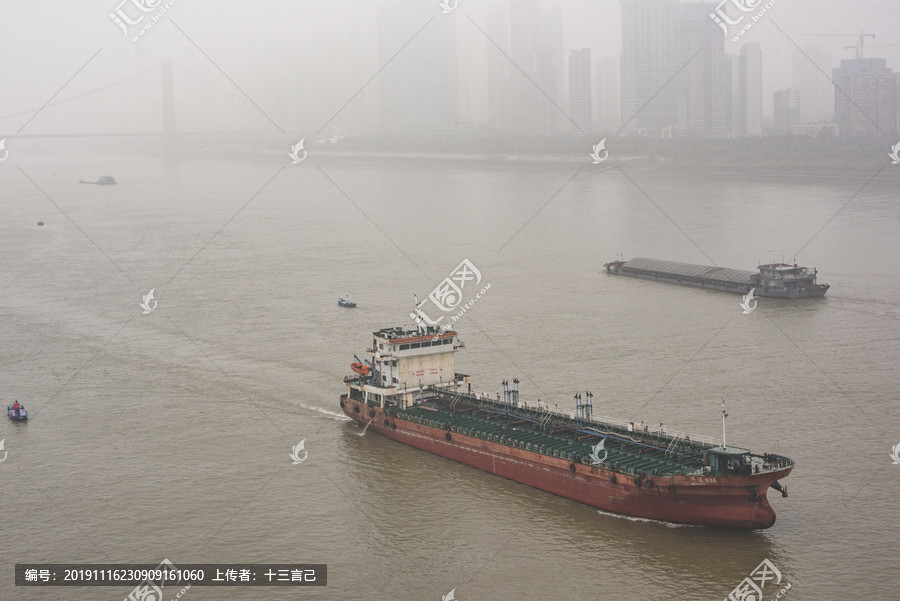boat: (333, 321, 792, 543), (596, 245, 836, 309)
